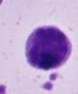L: (24, 25, 74, 70)
